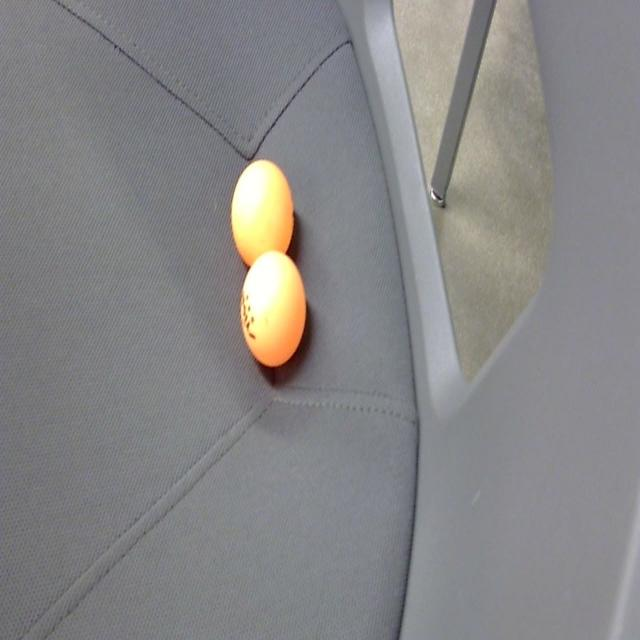ball: (238, 248, 310, 377), (229, 159, 295, 273)
